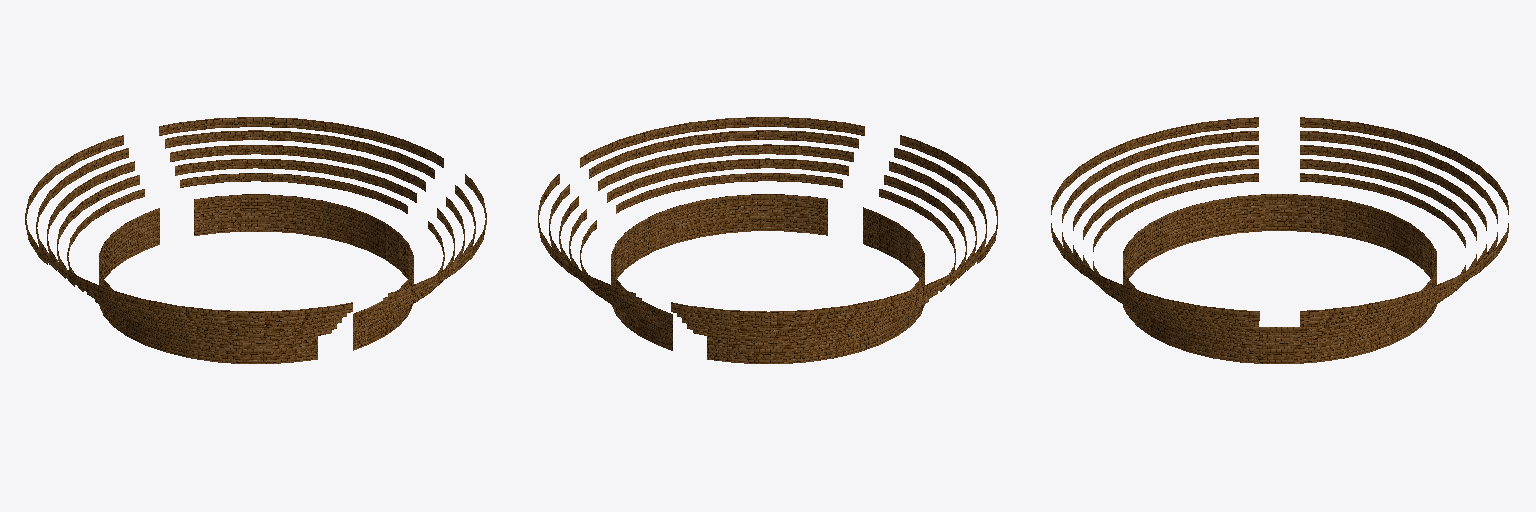
The picture shows the model from 3 angles: view 1: azimuth 30°, elevation 25°; view 2: azimuth 150°, elevation 25°; view 3: azimuth 270°, elevation 25°; orthographic projection.
Parts seen in each view (by area): view 1: Colo_Wall; view 2: Colo_Wall; view 3: Colo_Wall.
Part boxes in pixels (left/top/right/bottom): Colo_Wall: left=25, top=117, right=486, bottom=363; Colo_Wall: left=538, top=117, right=997, bottom=363; Colo_Wall: left=1051, top=117, right=1508, bottom=363.
Bounding box in the file's own units: 27.65 × 5.57 × 27.59.
1 materials, 1 textured.